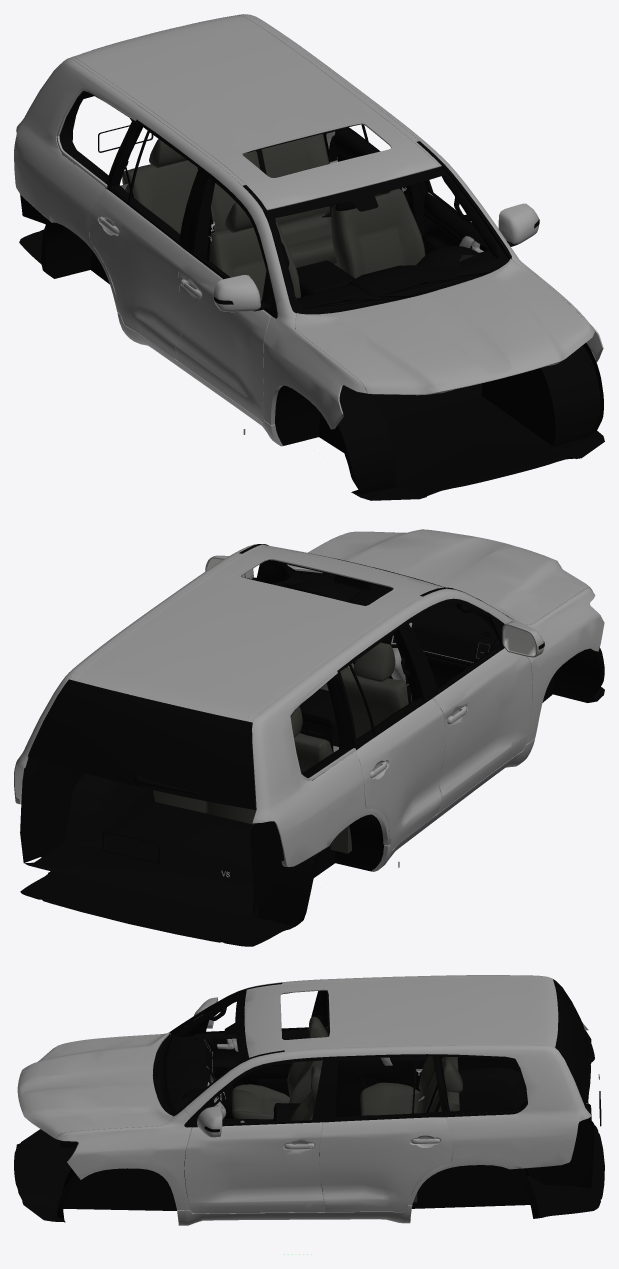
File: car.glb
3 views of the same model, one above another, from view 1: azimuth 30°, elevation 25°; view 2: azimuth 150°, elevation 25°; view 3: azimuth 270°, elevation 25° (orthographic). The views are drawn at different scales.
Visible parts, largest first — view 1: Object_30; view 2: Object_30, Object_70; view 3: Object_30, Object_70.
Part boxes in pixels (x1,y1,x2,y2): Object_30: (14,14,604,500); Object_30: (14,529,604,946); Object_70: (27,642,544,809); Object_30: (14,975,604,1225); Object_70: (204,979,590,1132).
Bounding box in the file's own units: 2.74 × 2.49 × 5.46.
5 materials, 4 textured.
